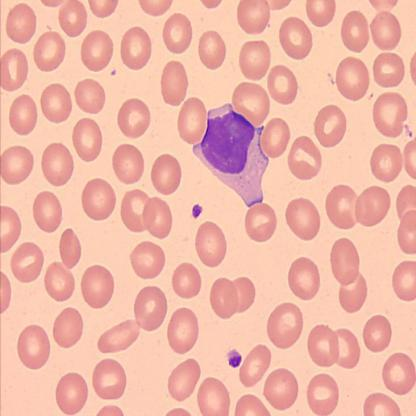Atypical lymphocyte: (193, 102, 271, 206)
